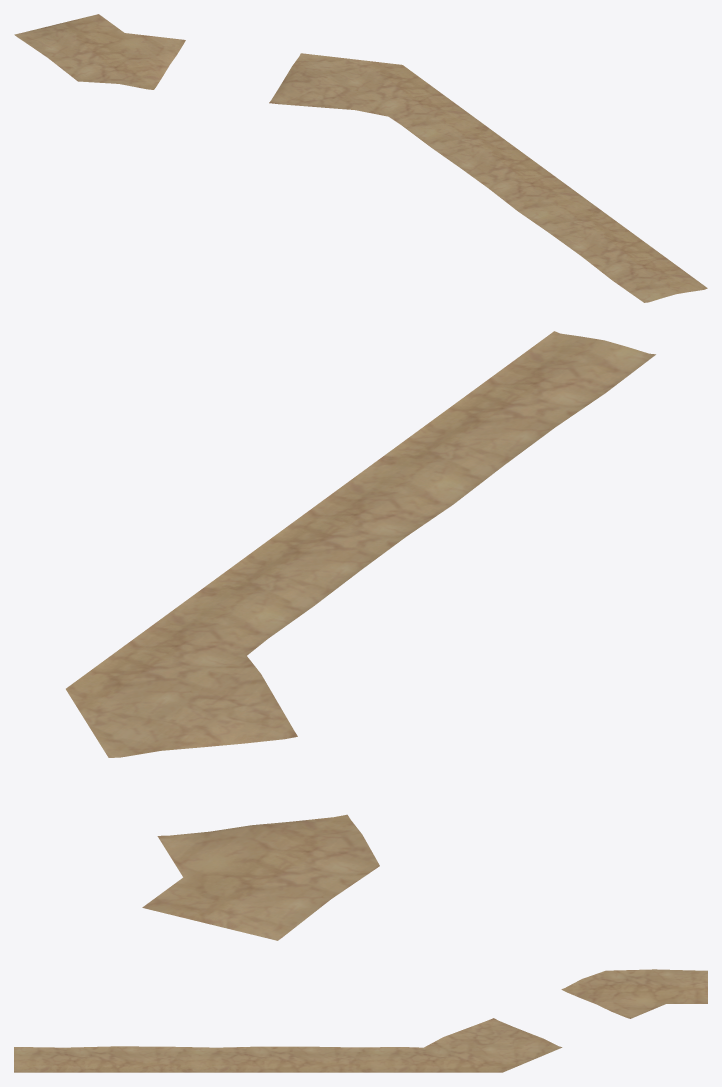
File: SM_ENV_LKNVLD_Ground_Left_Side_Grass_01.FBX
3 views of the same model, one above another, from view 1: azimuth 30°, elevation 25°; view 2: azimuth 150°, elevation 25°; view 3: azimuth 270°, elevation 25° (orthographic). The views are drawn at different scales.
Parts seen in each view (by area): view 1: SM_ENV_LKNVLD_Ground_Left_Side_Grass_01; view 2: SM_ENV_LKNVLD_Ground_Left_Side_Grass_01; view 3: SM_ENV_LKNVLD_Ground_Left_Side_Grass_01.
Boxes of the visible parts, x1,y1,x2,y2 form: SM_ENV_LKNVLD_Ground_Left_Side_Grass_01: (14,14,707,302); SM_ENV_LKNVLD_Ground_Left_Side_Grass_01: (66,331,655,940); SM_ENV_LKNVLD_Ground_Left_Side_Grass_01: (14,969,707,1072).
Bounding box in the file's own units: 2118 × 29.11 × 6099.
